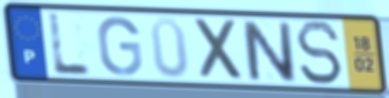0: (148, 15, 191, 81)
G: (95, 15, 145, 78)
L: (47, 11, 95, 78)
N: (238, 18, 300, 85)
S: (293, 19, 345, 87)
X: (192, 16, 247, 83)
